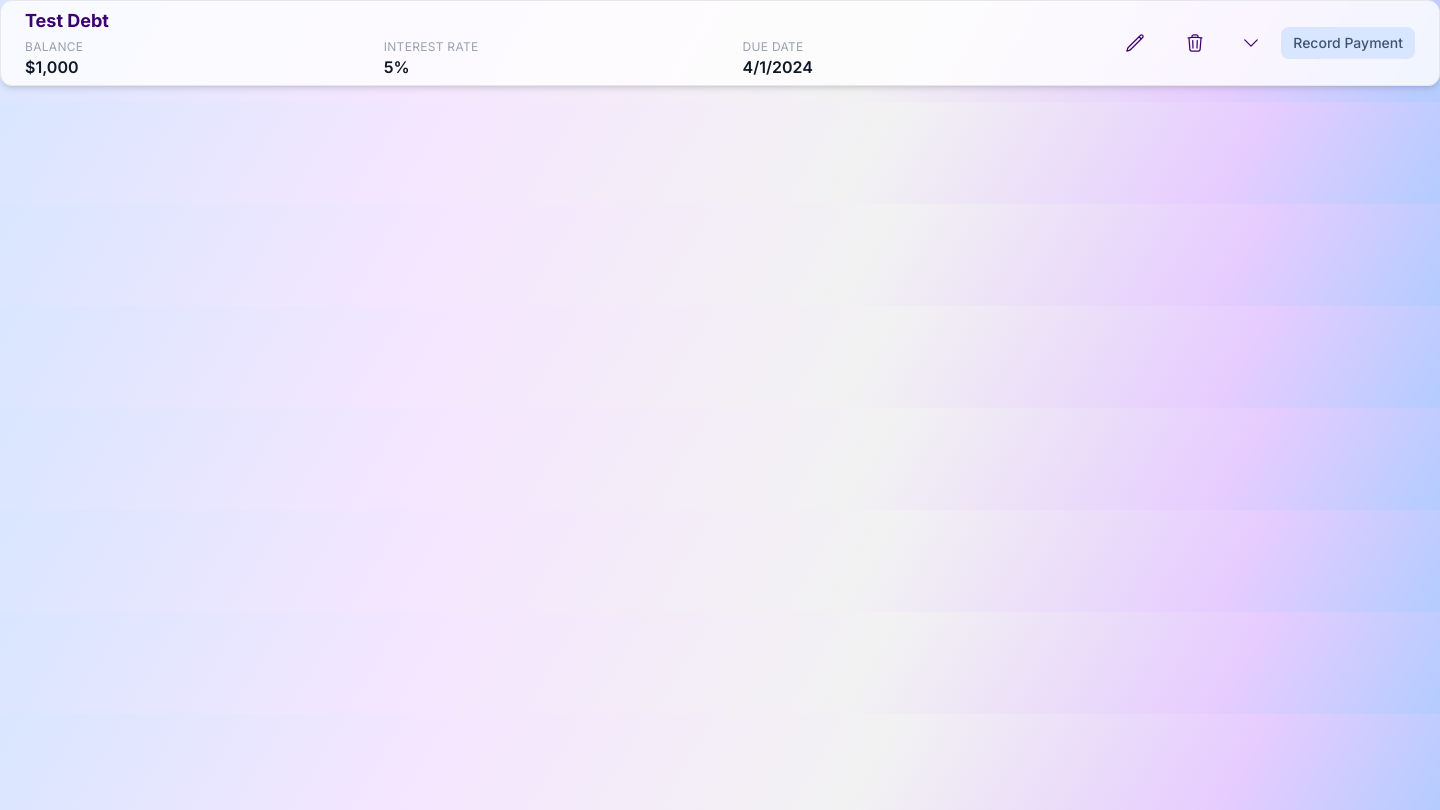
DebtCard › toggles payment history when clicked
expect the text "Payment History" is not shown: met
# Click to expand
Click the text "Test Debt" at (67, 20), box [25,10,109,31]
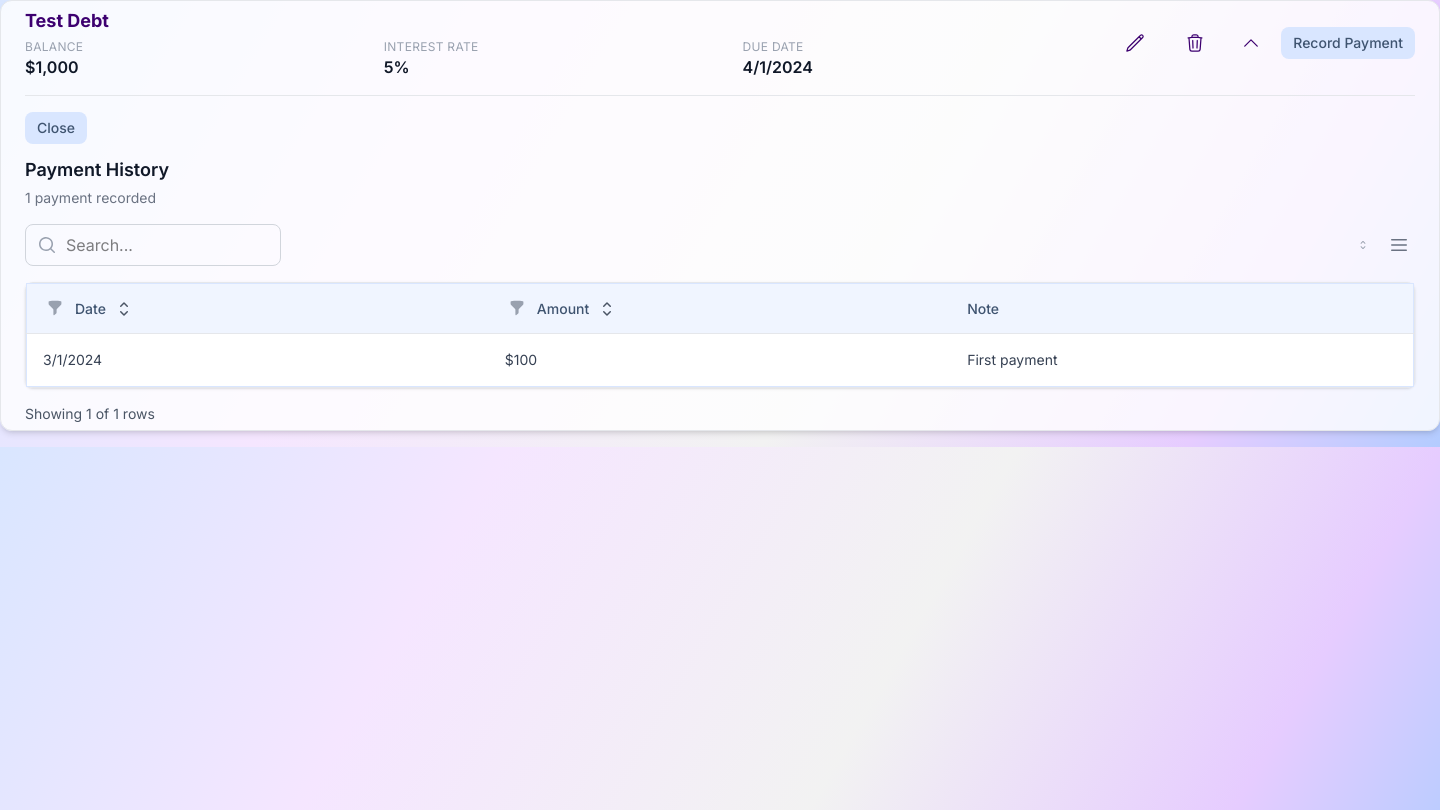
expect the heading "Payment History" is shown: met, box [25,159,169,180]
# Click to collapse
Click the text "Test Debt" at (67, 20), box [25,10,109,31]
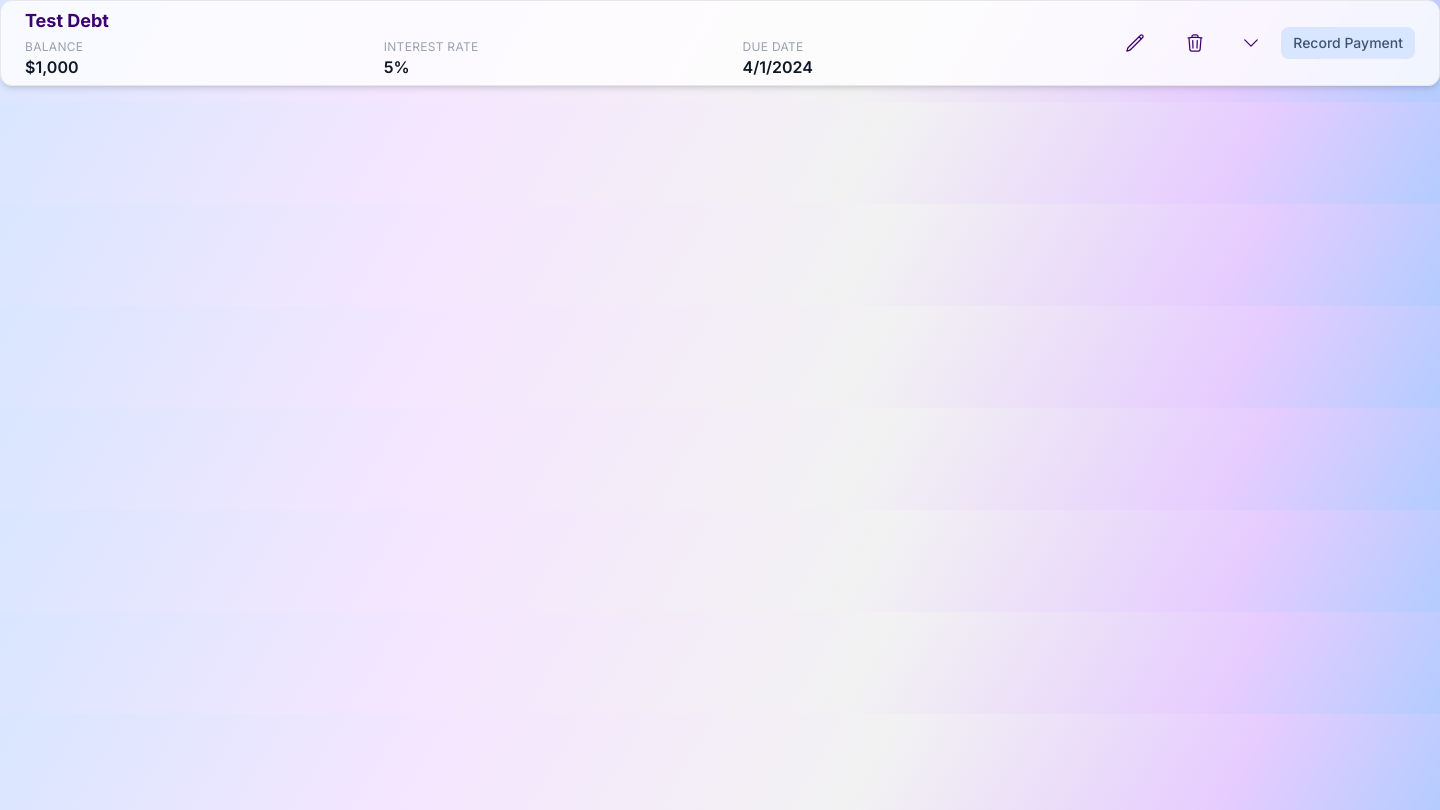
expect the heading "Payment History" is gone: met
